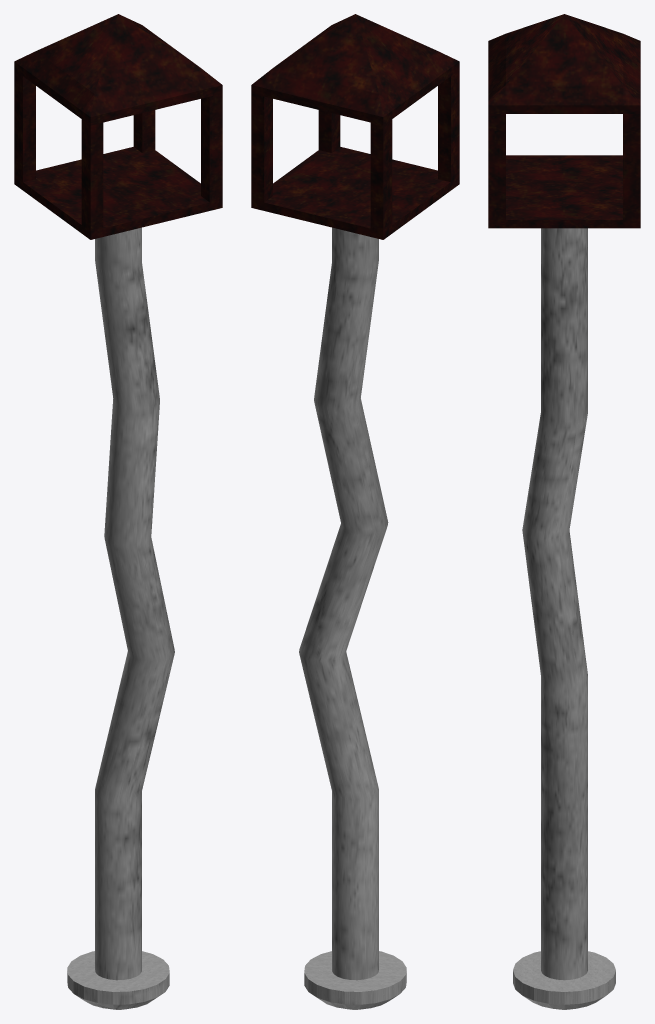
Rendered from Shadowstaff.fbx.
The picture shows the model from 3 angles, left to right: view 1: azimuth 30°, elevation 25°; view 2: azimuth 150°, elevation 25°; view 3: azimuth 270°, elevation 25°; orthographic projection.
Visible parts, largest first — view 1: pCylinder1, pCube3; view 2: pCylinder1, pCube3; view 3: pCylinder1, pCube3.
Boxes of the visible parts, bbox=[...] form: pCylinder1: bbox=[67, 227, 174, 1009]; pCube3: bbox=[14, 14, 222, 239]; pCylinder1: bbox=[299, 227, 406, 1009]; pCube3: bbox=[251, 14, 459, 239]; pCylinder1: bbox=[513, 228, 615, 1009]; pCube3: bbox=[488, 14, 640, 228].
Size of the model in its own units: 3.62 by 25.97 by 3.62.
2 materials, 2 textured.
